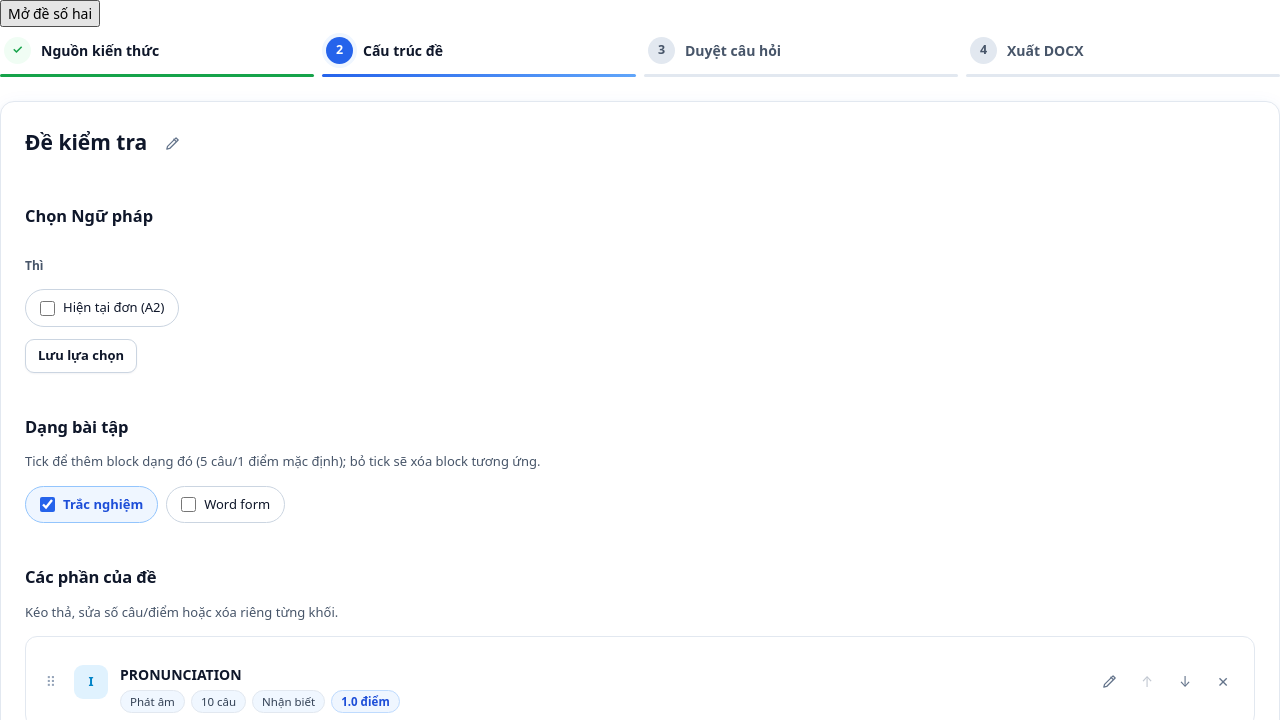
Test: ExamBuilderPage › updates the block question total live while typing a sub-part count
Step 1. Click the button named "Chỉnh sửa PRONUNCIATION" → coordinates (1109, 682), box [1092, 665, 1126, 699]
(page scrolled)
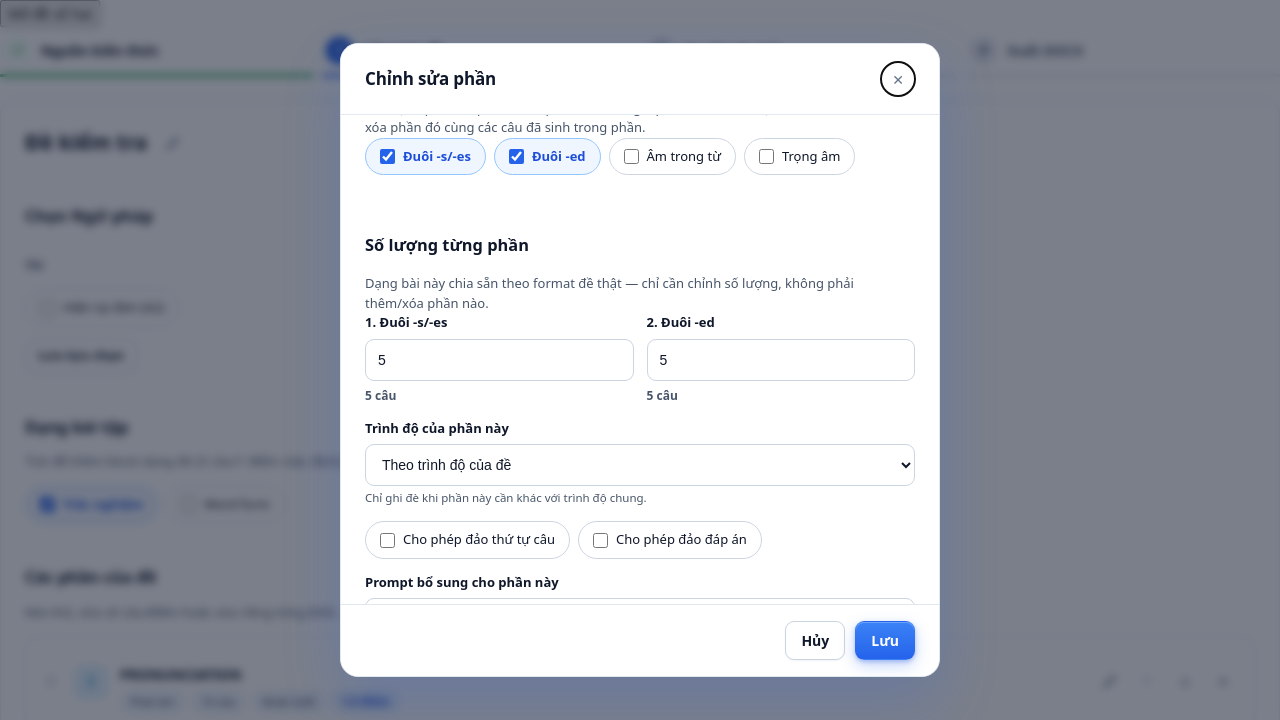
Step 2. Replace the text in the number field labelled "2. Đuôi -ed" with "8" → coordinates (781, 360), box [646, 339, 915, 381]
(page scrolled)
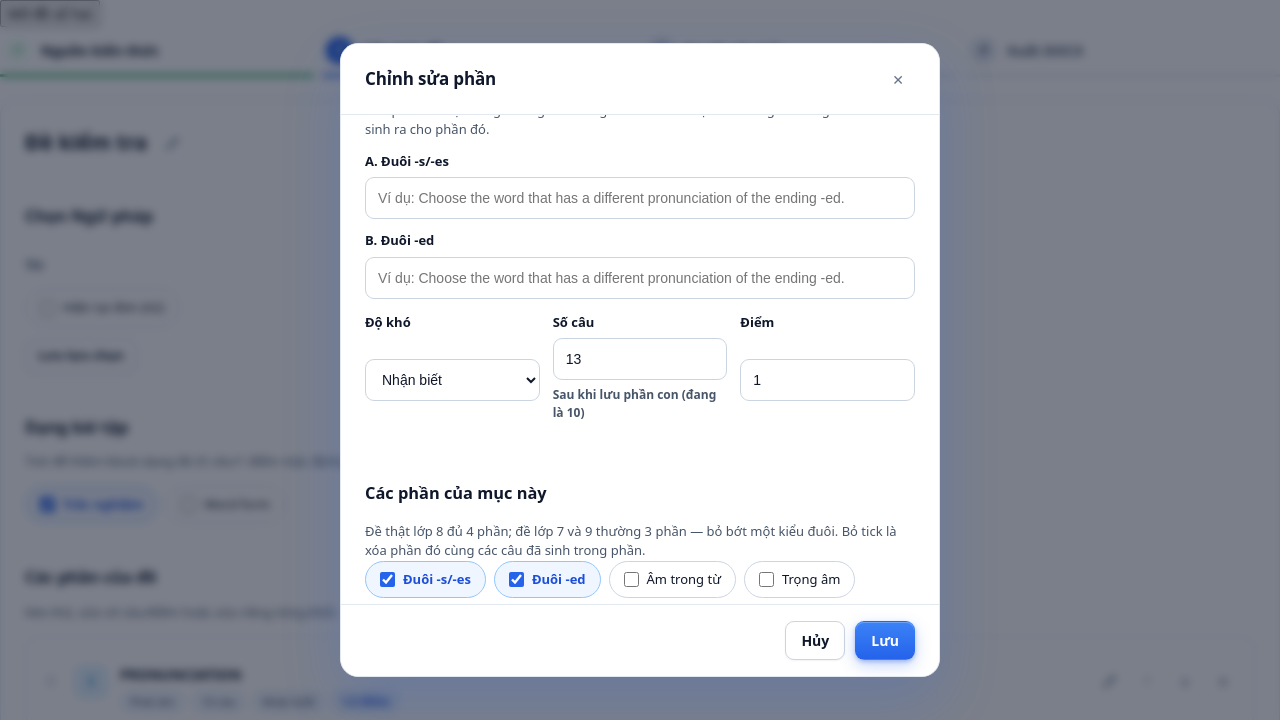
Check: the number field labelled "Số câu" holds "13", box [553, 338, 727, 380]
